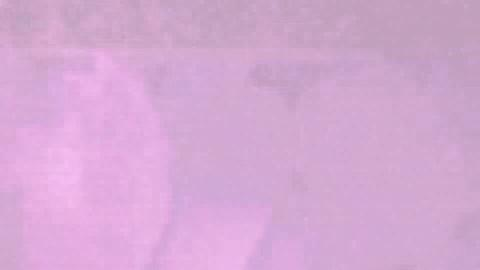tomato: (2, 101, 253, 268)
